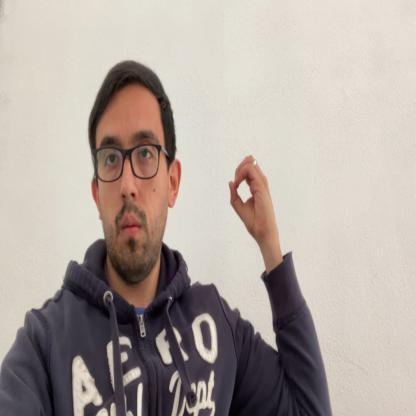O: (228, 152, 275, 238)
